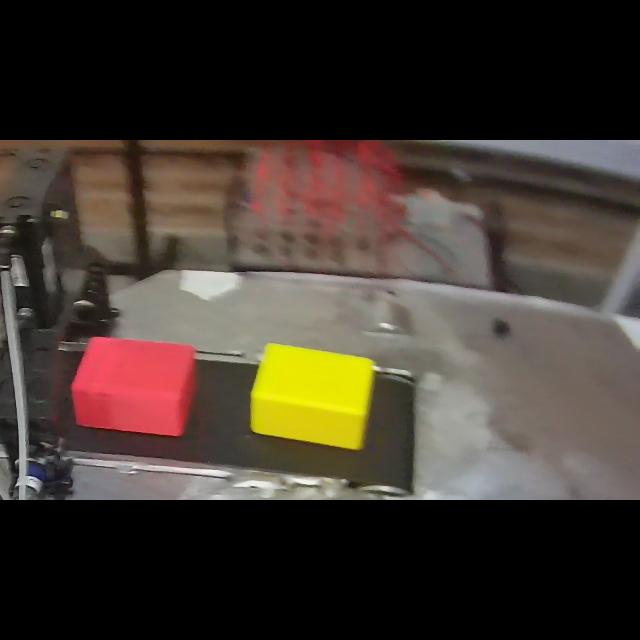redBox: (72, 328, 200, 440)
yellowBox: (246, 339, 380, 455)
